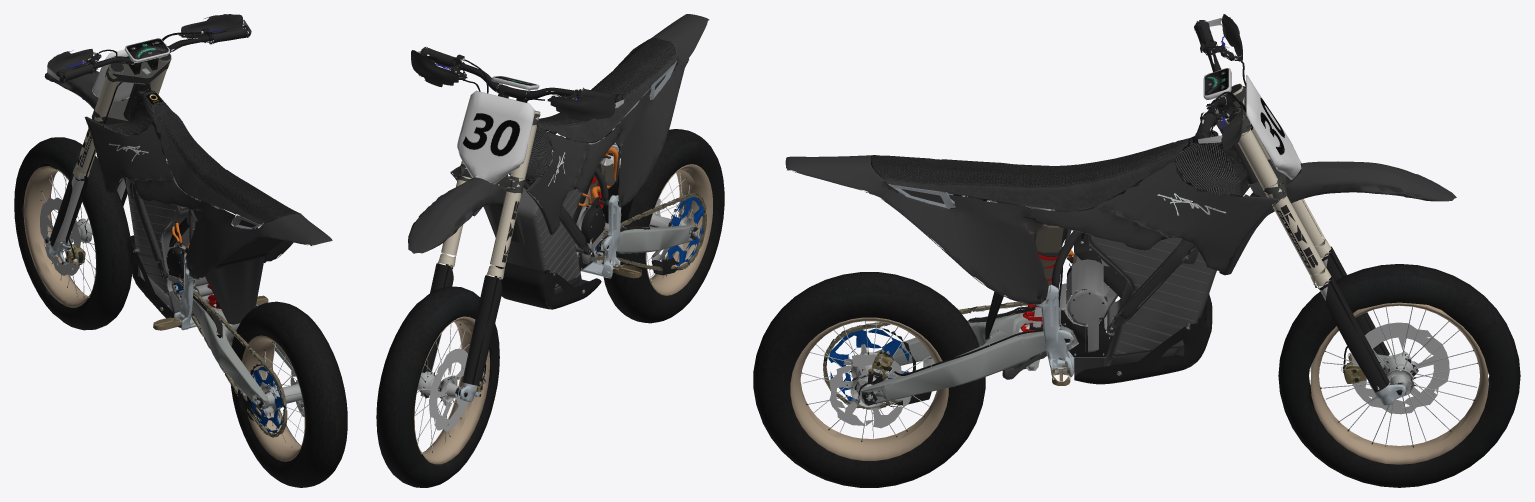
File: stark-varg.glb
3 views of the same model, side by side, from view 1: azimuth 30°, elevation 25°; view 2: azimuth 150°, elevation 25°; view 3: azimuth 270°, elevation 25° (orthographic). The views are drawn at different scales.
Visible parts, largest first — view 1: Wheel-R_36 (×2), Wheel-F_40 (×2), Body_1, Seat_26, r-Mud-Gaurd_22, Battery_0, Swingarm_38 (×2), Forks_9 (×2), Frame_11, Liver&Gaurd_17, High-Fender_15, Motor_18 (×2) (+15 smaller); view 2: Wheel-F_40 (×2), Wheel-R_36 (×2), Body_1, High-Fender_15, Seat_26, Battery_0, Forks-Gaurd_10, Skidplate_31, Swingarm_38 (×2), Forks_9, Liver&Gaurd_17, Motor_18 (×2) (+14 smaller); view 3: Wheel-R_36 (×2), Wheel-F_40 (×2), Body_1, Seat_26, Battery_0, High-Fender_15, Swingarm_38, Motor_18 (×2), Forks_9, Skidplate_31, R-Wheel_37 (×2), Frame_11 (+12 smaller).
Boxes of the visible parts, x1,y1,x2,y2 form: Wheel-R_36 (×2): [231, 301, 347, 487]; Wheel-F_40 (×2): [14, 137, 131, 330]; Body_1: [84, 116, 332, 279]; Seat_26: [153, 104, 300, 224]; r-Mud-Gaurd_22: [205, 236, 282, 324]; Battery_0: [126, 160, 197, 313]; Swingarm_38 (×2): [192, 288, 291, 420]; Forks_9 (×2): [56, 53, 171, 243]; Frame_11: [123, 83, 223, 278]; Liver&Gaurd_17: [47, 14, 242, 78]; High-Fender_15: [44, 44, 166, 190]; Motor_18 (×2): [166, 216, 213, 303]; Wheel-F_40 (×2): [376, 286, 499, 487]; Wheel-R_36 (×2): [603, 129, 724, 323]; Body_1: [450, 14, 709, 234]; High-Fender_15: [408, 90, 535, 253]; Seat_26: [538, 38, 676, 142]; Battery_0: [506, 151, 583, 295]; Forks-Gaurd_10: [422, 263, 502, 385]; Skidplate_31: [495, 262, 601, 309]; Swingarm_38 (×2): [597, 221, 698, 275]; Forks_9: [438, 111, 540, 279]; Liver&Gaurd_17: [411, 50, 615, 121]; Motor_18 (×2): [573, 175, 605, 271]; Wheel-R_36 (×2): [753, 272, 985, 487]; Wheel-F_40 (×2): [1278, 264, 1520, 487]; Body_1: [785, 155, 1280, 304]; Seat_26: [871, 138, 1188, 210]; Battery_0: [1088, 233, 1216, 366]; High-Fender_15: [1219, 75, 1456, 275]; Swingarm_38: [859, 304, 1073, 405]; Motor_18 (×2): [1059, 232, 1124, 357]; Forks_9: [1226, 83, 1331, 288]; Skidplate_31: [1074, 294, 1212, 384]; R-Wheel_37 (×2): [802, 321, 930, 440]; Frame_11: [1052, 124, 1258, 328].
Size of the model in its own units: 1.52 by 2.49 by 4.17.
30 materials, 6 textured.
